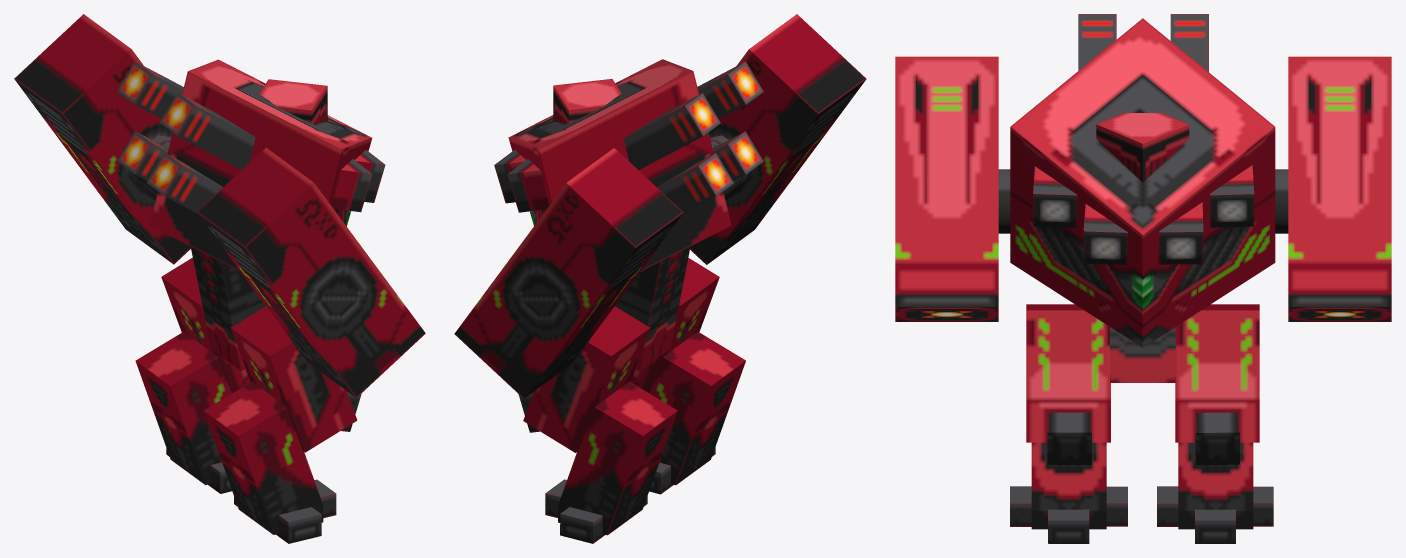
File: mecha2.fbx
The picture shows the model from 3 angles, left to right: view 1: azimuth 30°, elevation 25°; view 2: azimuth 150°, elevation 25°; view 3: azimuth 270°, elevation 25°; orthographic projection. The views are drawn at different scales.
Parts seen in each view (by area): view 1: OmegaXD; view 2: OmegaXD; view 3: OmegaXD.
Boxes of the visible parts, bbox=[...] form: OmegaXD: bbox=[14, 14, 425, 543]; OmegaXD: bbox=[454, 14, 866, 543]; OmegaXD: bbox=[895, 14, 1391, 543].
Size of the model in its own units: 180 by 311 by 297.
1 material, 1 textured.
